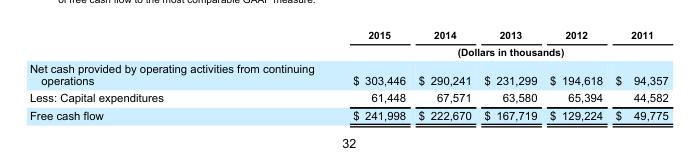table: (28, 29, 667, 121)
table column: (28, 29, 332, 121), (332, 29, 411, 121), (411, 29, 477, 121), (542, 29, 608, 121), (477, 29, 542, 121), (608, 29, 667, 121)
table column header: (28, 29, 667, 59)
table row: (28, 59, 667, 88), (28, 88, 667, 106), (28, 43, 667, 59), (28, 106, 667, 121), (28, 29, 667, 43)
table spanning cell: (332, 43, 667, 59)
